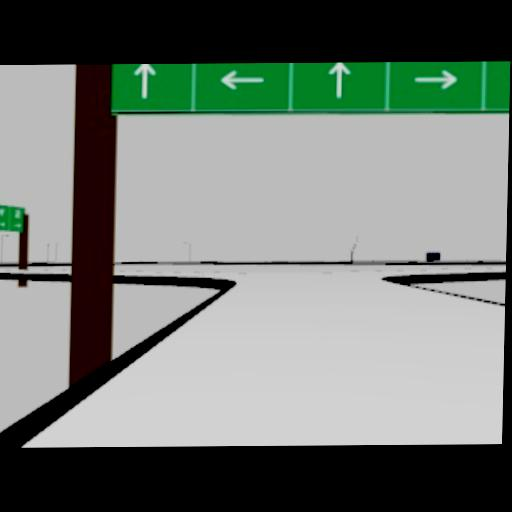Left: (218, 68, 266, 89), (330, 61, 351, 72), (11, 220, 21, 227)
Right: (412, 67, 458, 88), (0, 219, 5, 226)
Straight: (131, 63, 157, 97), (326, 61, 350, 96)
Y: (0, 206, 5, 214)
Z: (5, 204, 15, 214), (13, 208, 20, 218), (507, 71, 510, 83)
